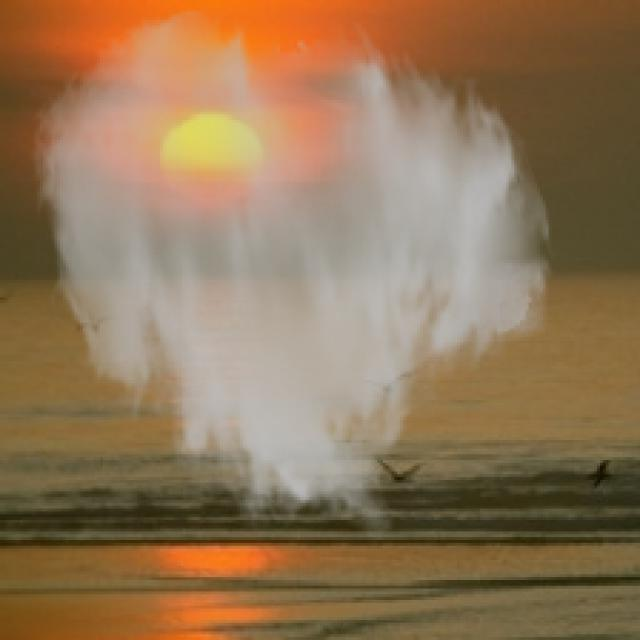smoke: (29, 6, 557, 543)
